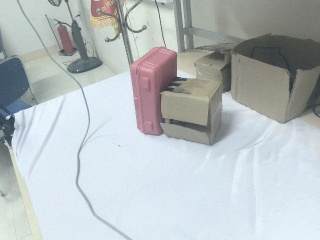box: (231, 34, 320, 122), (161, 78, 222, 144)
toy_car: (90, 1, 120, 41)
